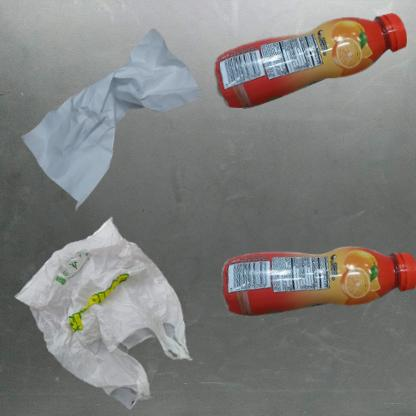bolsa: (10, 213, 197, 412)
botella: (213, 213, 416, 368), (213, 10, 409, 112)
papel: (10, 10, 215, 233)
